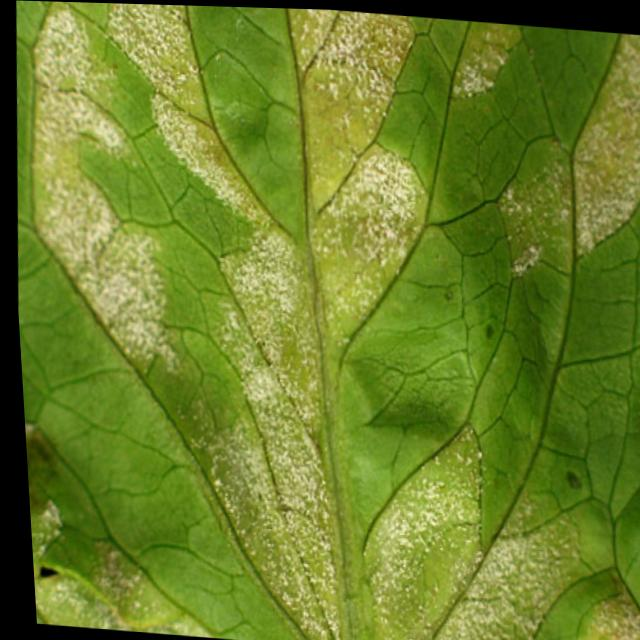Bad: (38, 4, 338, 640), (38, 99, 175, 364), (310, 146, 426, 348), (575, 35, 640, 254)
